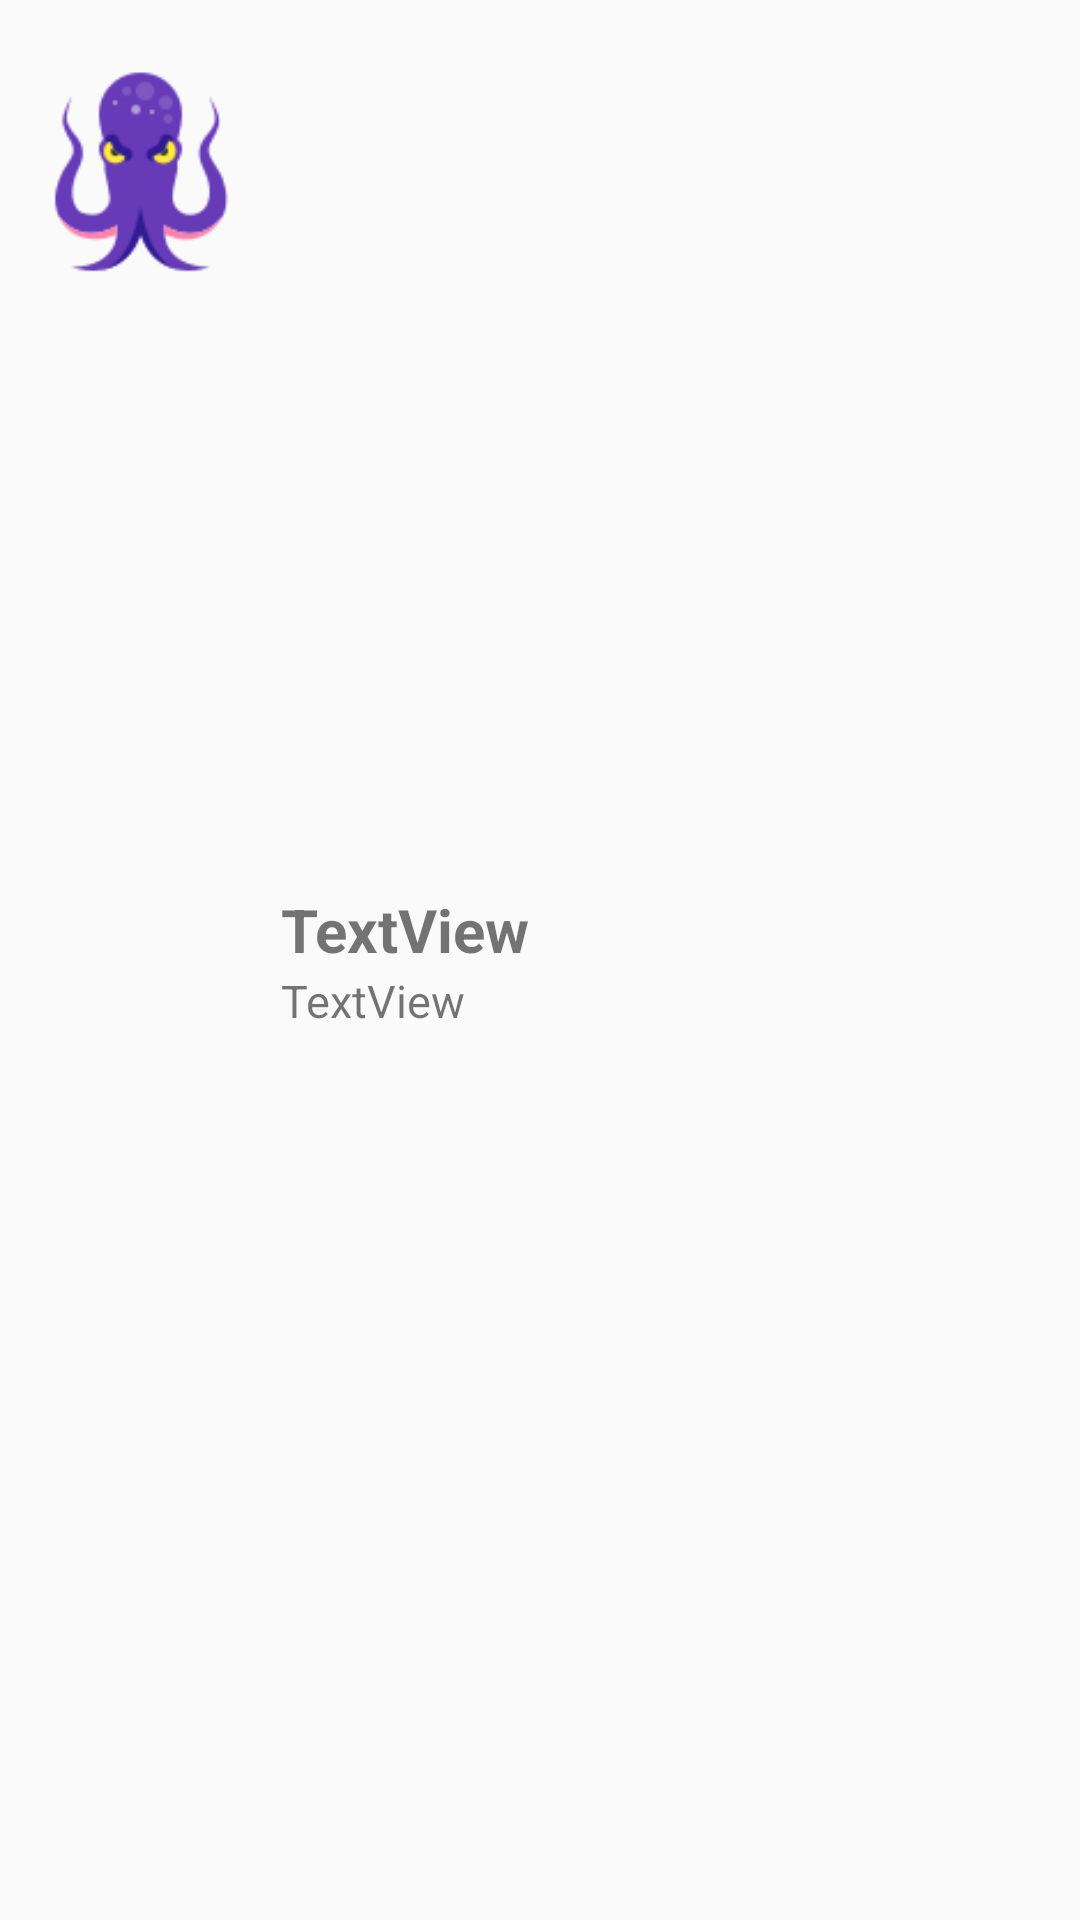

Named icons in this screenshot (1080*1920) and their bounding boxes, (x1, y1, x2, y2):
octopus: (54, 72, 228, 272)
